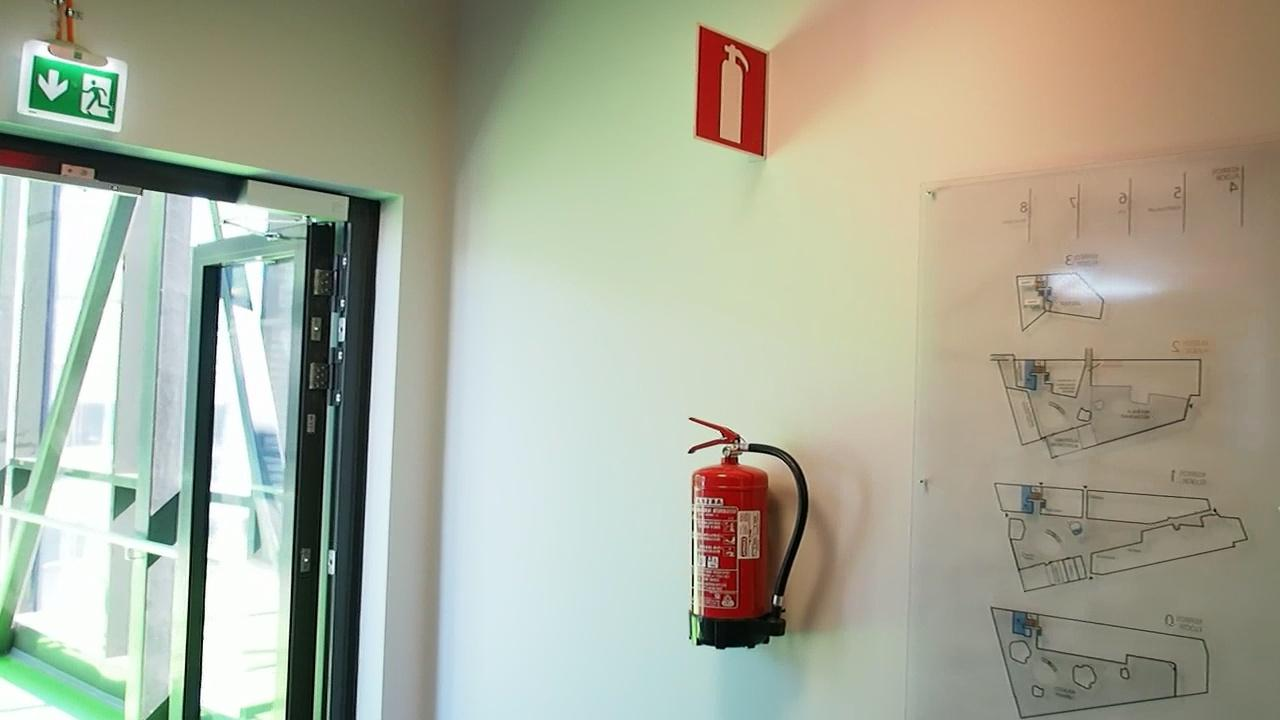exit: (17, 53, 118, 115)
fireextinguisher: (677, 411, 803, 654), (695, 28, 770, 146)
